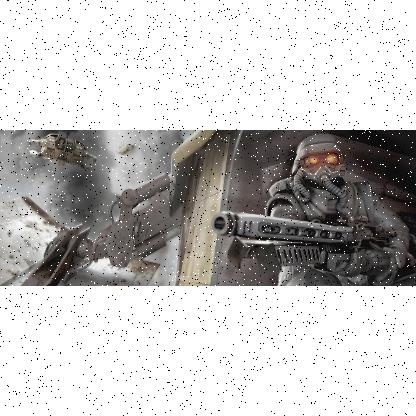gun: (212, 223, 416, 285)
